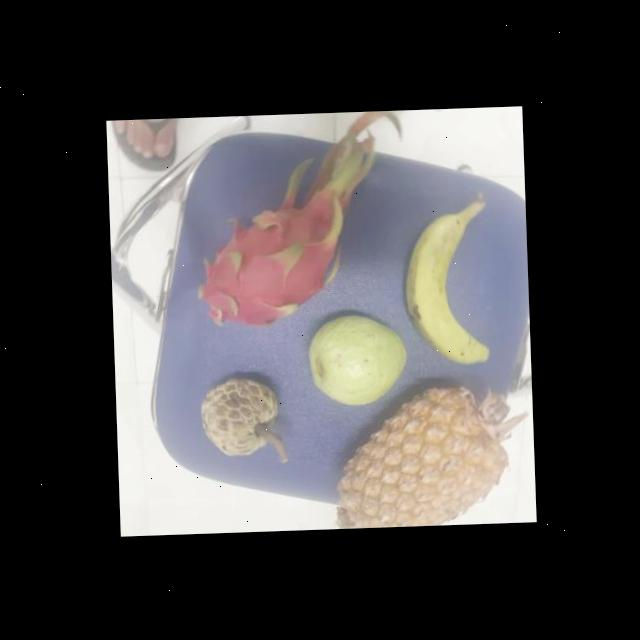Sakya fruit: (194, 372, 281, 457)
banana: (396, 208, 492, 366)
guava: (300, 312, 408, 410)
pitaya: (188, 198, 344, 329)
